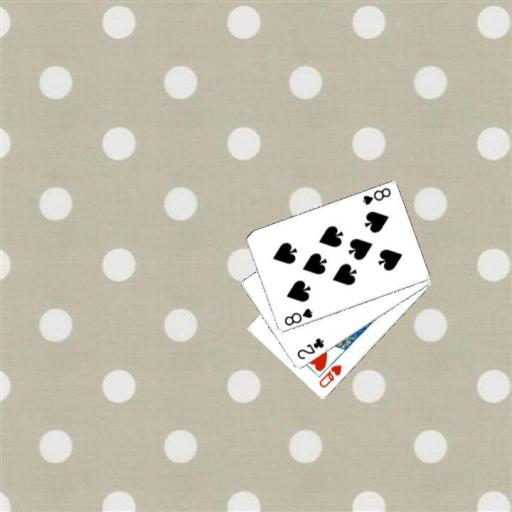2C: (294, 335, 326, 361)
8S: (281, 305, 314, 328), (359, 185, 393, 207)
QH: (316, 362, 343, 390)
